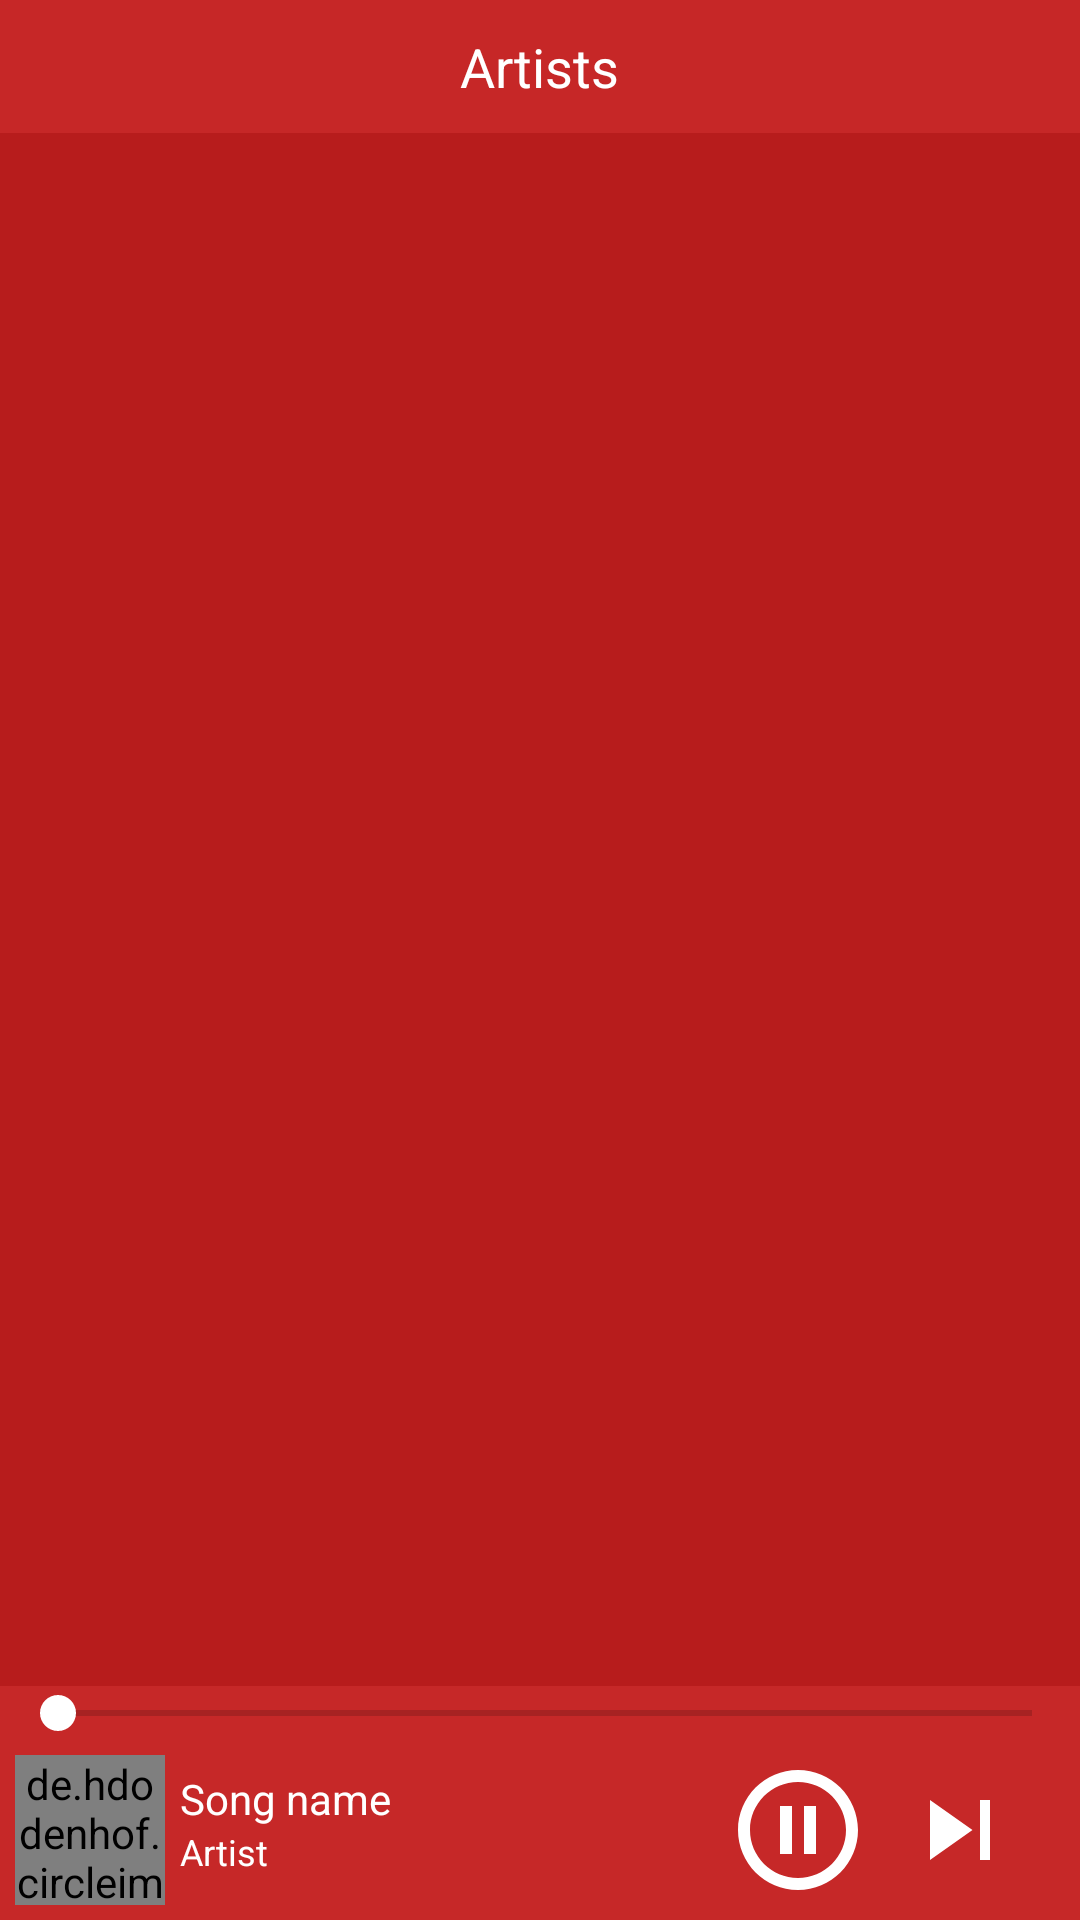

Screen size 1080px x 1920px. Icon name, then its center in pixels as point (x, y):
next: point (960, 1830)
pause circle: point (798, 1830)
